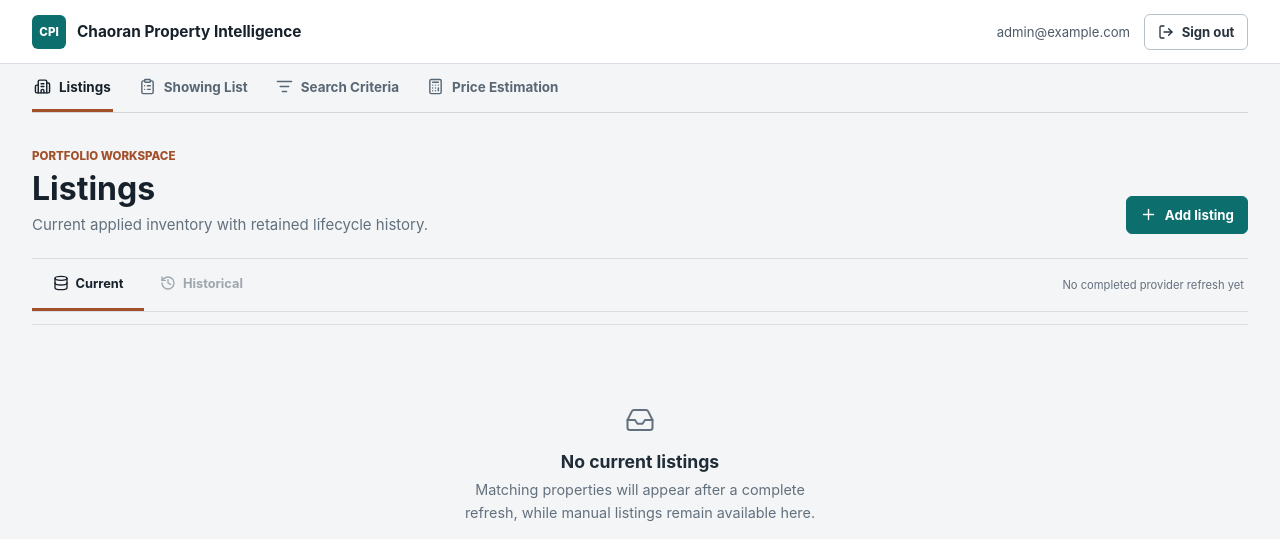
App authentication boundary › switches to Price Estimation without starting a provider request
Expected: the heading "No current listings" is shown, [561,451,719,472]
Step 1. Click the button "Price Estimation" → (493, 88), box [425,64,560,112]
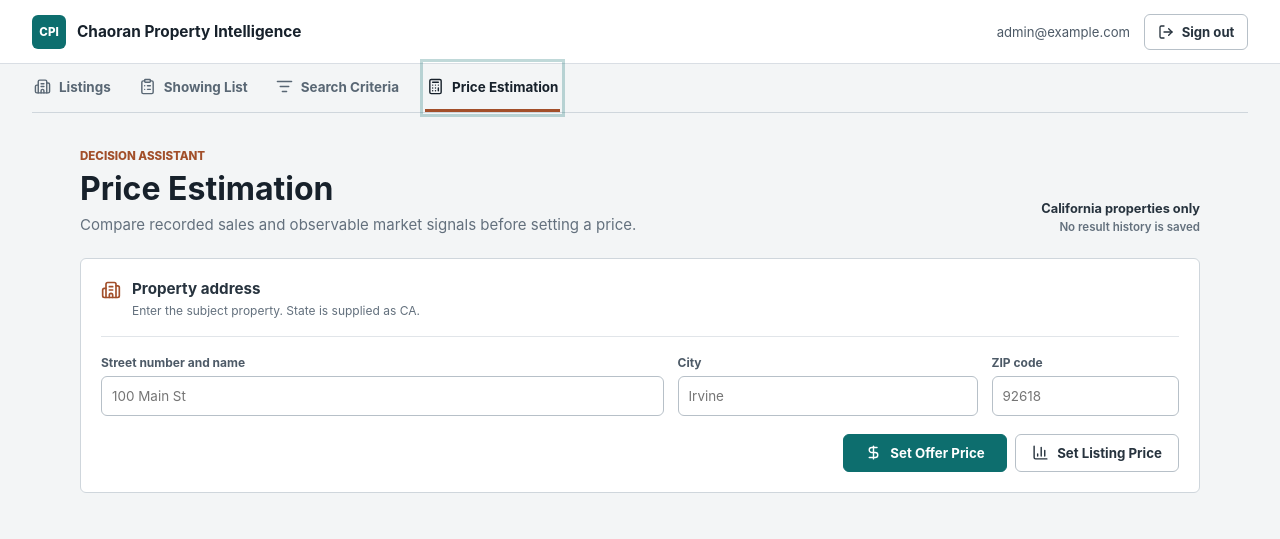
Result: the heading "Price Estimation" is shown at [80,169,334,208]
Result: the button "Set Offer Price" is shown at [843,434,1007,472]
